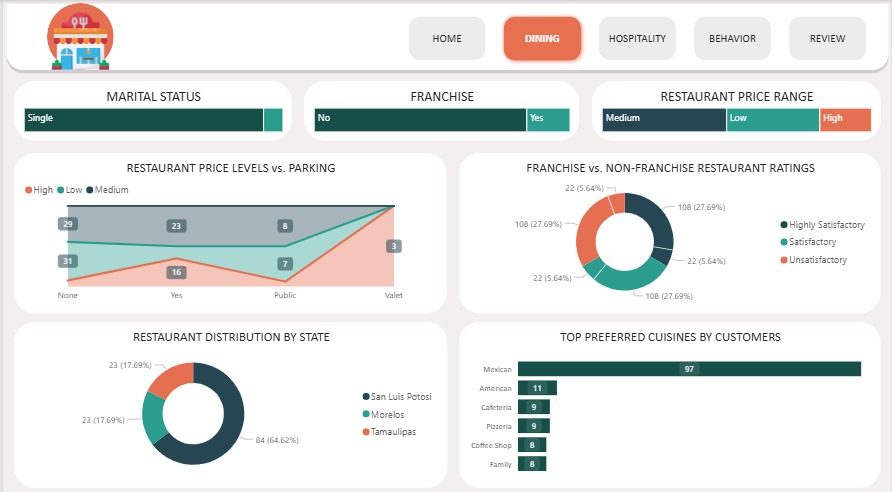

The dashboard page shown, as its layout file describes it:
{"tool":"powerbi","page":{"name":"DINING","canvas":[1280,720],"ordinal":1},"visuals":[{"type":"treemap","title":"MARITAL STATUS","fields":{"Values":["CountNonNull(consumers.Marital_Status)"],"Group":["consumers.Marital_Status"]},"box":[15.3,116.8,400.3,86.2],"z":0},{"type":"treemap","title":"FRANCHISE","fields":{"Values":["CountNonNull(restaurants.Franchise)"],"Group":["restaurants.Franchise"]},"box":[433.7,116.8,396.1,86.2],"z":1000},{"type":"treemap","title":"RESTAURANT PRICE RANGE","fields":{"Group":["restaurants.Price"],"Values":["CountNonNull(restaurants.Price)"]},"box":[847.9,116.8,415.6,86.2],"z":2000},{"type":"hundredPercentStackedAreaChart","title":"RESTAURANT PRICE LEVELS vs. PARKING","fields":{"Category":["restaurants.Parking"],"Series":["restaurants.Price"],"Y":["CountNonNull(restaurants.Restaurant_ID)"]},"box":[15.3,219.6,622.7,230.7],"z":3000},{"type":"donutChart","title":"RESTAURANT DISTRIBUTION BY STATE","fields":{"Category":["restaurants.State"],"Y":["CountNonNull(restaurants.Restaurant_ID)"]},"box":[15.3,464.2,624.1,239.1],"z":4000},{"type":"barChart","title":"TOP PREFERRED CUISINES BY CUSTOMERS","fields":{"Category":["consumer_preferences.Preferred_Cuisine"],"Y":["CountNonNull(consumer_preferences.Consumer_ID)"]},"box":[656.1,464.2,607.4,239.1],"z":5000},{"type":"donutChart","title":"FRANCHISE vs. NON-FRANCHISE RESTAURANT RATINGS","fields":{"Y":["CountNonNull(restaurants.Restaurant_ID)"],"Category":["ratings.Overall_Rating_Category"],"Series":["restaurants.Franchise"]},"box":[656.1,219.6,607.4,230.7],"z":6000},{"type":"shape","box":[0,0,1280.5,105.9],"z":7000},{"type":"shape","box":[63.7,4.4,96.2,96.7],"z":8000},{"type":"image","box":[56,9.3,111.5,101.1],"z":9000},{"type":"pageNavigator","box":[576,15.5,677.6,79.1],"z":10000}]}

Visuals, with their boxes in screenshot pixels (x1, y1, x2, y2), scaled from the page's 1280x720 canvas onto the 892x492 screenshot:
"MARITAL STATUS" treemap: bbox=(11, 80, 290, 139)
"FRANCHISE" treemap: bbox=(302, 80, 578, 139)
"RESTAURANT PRICE RANGE" treemap: bbox=(591, 80, 881, 139)
"RESTAURANT PRICE LEVELS vs. PARKING" hundredPercentStackedAreaChart: bbox=(11, 150, 445, 308)
"RESTAURANT DISTRIBUTION BY STATE" donutChart: bbox=(11, 317, 446, 481)
"TOP PREFERRED CUISINES BY CUSTOMERS" barChart: bbox=(457, 317, 881, 481)
"FRANCHISE vs. NON-FRANCHISE RESTAURANT RATINGS" donutChart: bbox=(457, 150, 881, 308)
shape: bbox=(0, 0, 891, 72)
shape: bbox=(44, 3, 111, 69)
image: bbox=(39, 6, 117, 75)
pageNavigator: bbox=(401, 11, 874, 65)
